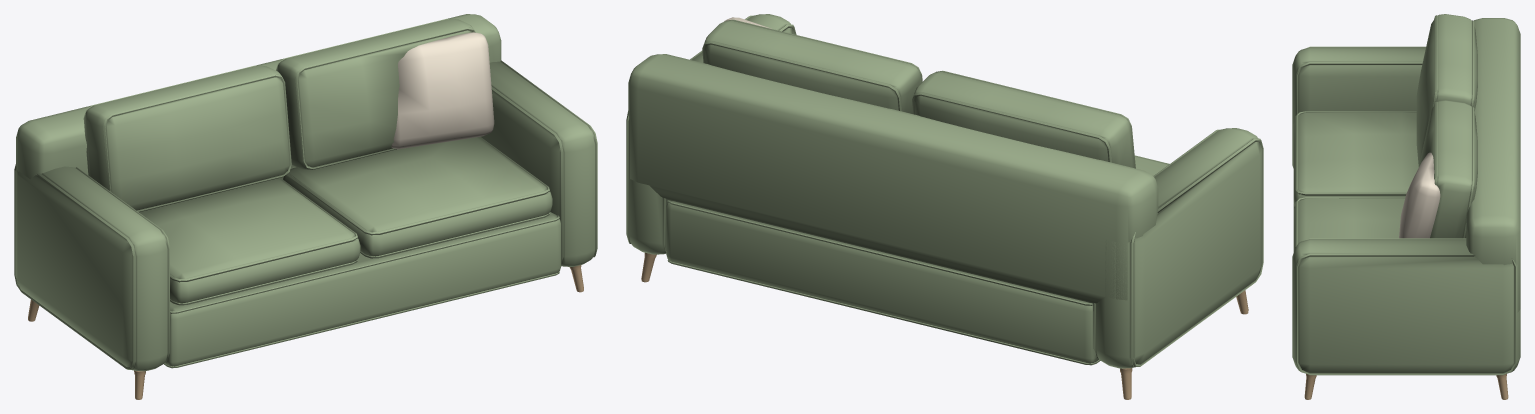
Rendered from loveseat.glb.
3 renders of one model, left to right at view 1: azimuth 30°, elevation 25°; view 2: azimuth 150°, elevation 25°; view 3: azimuth 270°, elevation 25°, orthographic. The views are drawn at different scales.
Visible parts, largest first — view 1: sofa, seat; view 2: sofa; view 3: sofa, seat.
Part boxes in pixels (bbox=[...]): sofa: bbox=[14, 14, 597, 399]; seat: bbox=[139, 136, 552, 305]; sofa: bbox=[626, 14, 1263, 399]; sofa: bbox=[1292, 14, 1520, 399]; seat: bbox=[1293, 111, 1418, 251].
Bounding box in the file's own units: 1.84 × 0.8331 × 0.84.
